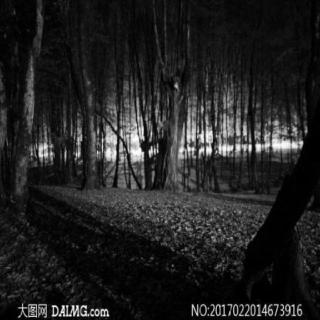Fire: (95, 123, 157, 163)
